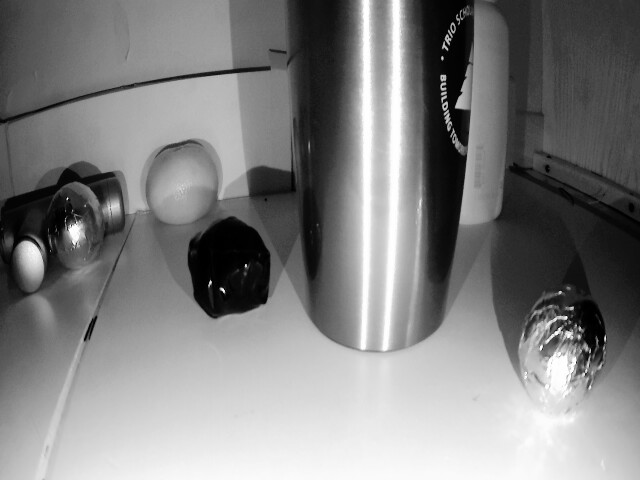black: (187, 214, 270, 318)
silver: (522, 278, 610, 416), (44, 180, 106, 268)
